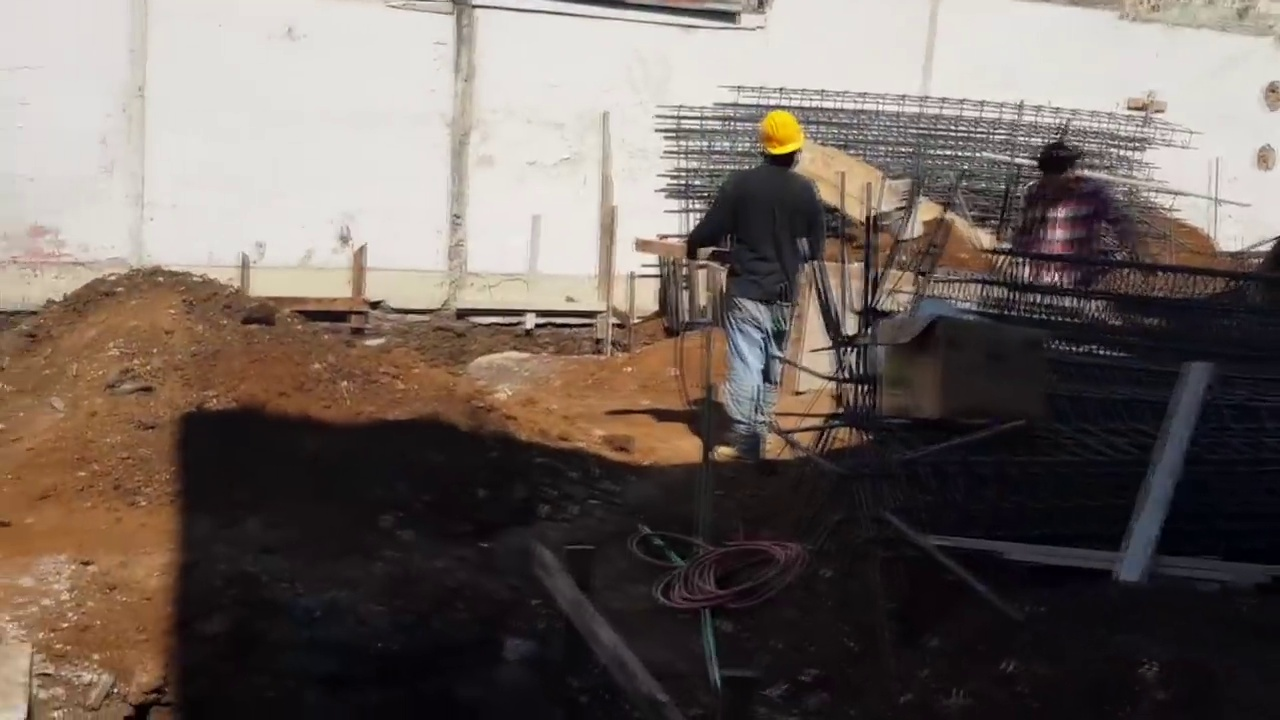helmet: (755, 110, 806, 152)
helmet-off: (1039, 139, 1084, 192)
helmet-on: (750, 105, 806, 178)
person: (688, 104, 826, 437), (1011, 131, 1114, 357)
